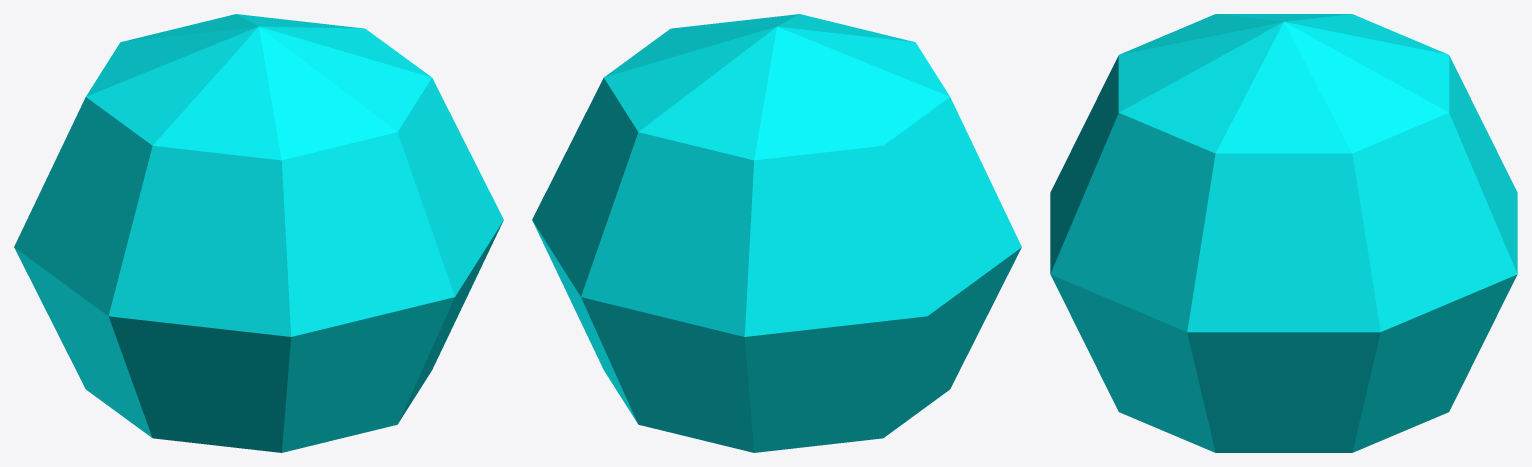
Rendered from ARCarnivalProjectile.fbx.
3 renders of one model, left to right at view 1: azimuth 30°, elevation 25°; view 2: azimuth 150°, elevation 25°; view 3: azimuth 270°, elevation 25°, orthographic. The views are drawn at different scales.
Visible parts, largest first — view 1: sphere; view 2: sphere; view 3: sphere.
Boxes of the visible parts, left/top/right/bottom form: sphere: left=14, top=14, right=503, bottom=452; sphere: left=532, top=14, right=1021, bottom=452; sphere: left=1050, top=14, right=1517, bottom=452.
Size of the model in its own units: 100 by 100 by 100.
1 material, 1 textured.
